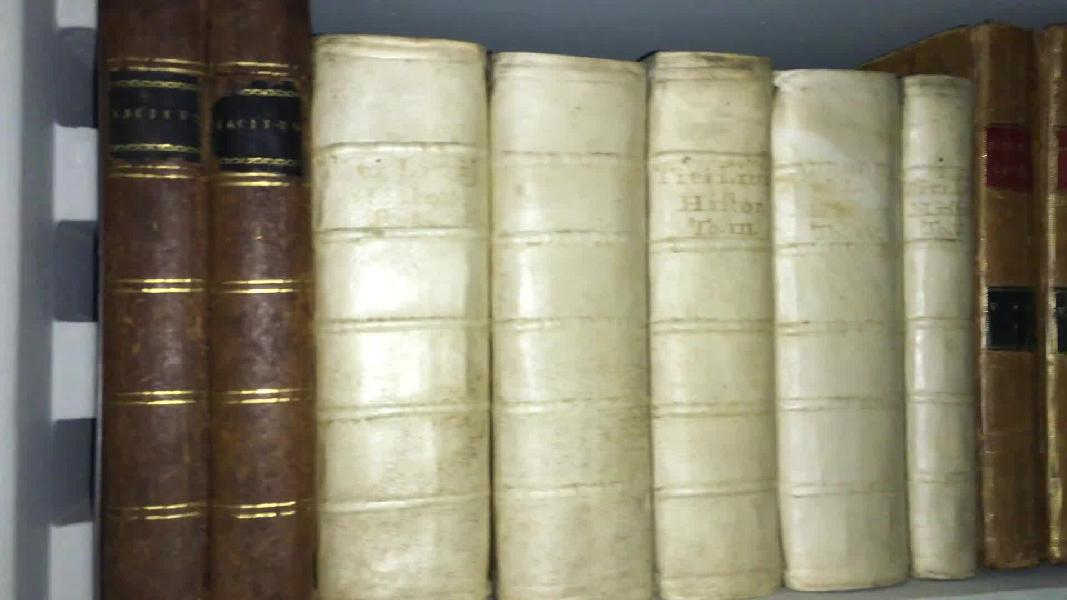Kk4-1_2: (86, 1, 322, 600)
Kk4-3_7: (304, 24, 983, 600)
